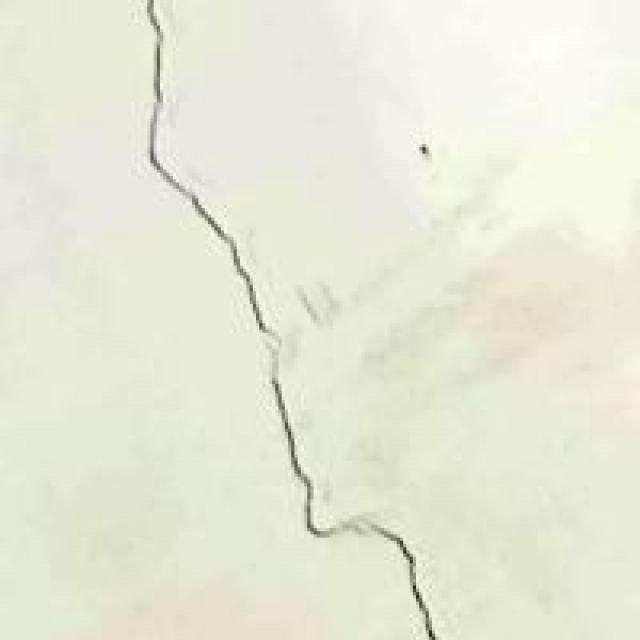Crack: (125, 0, 461, 637)
